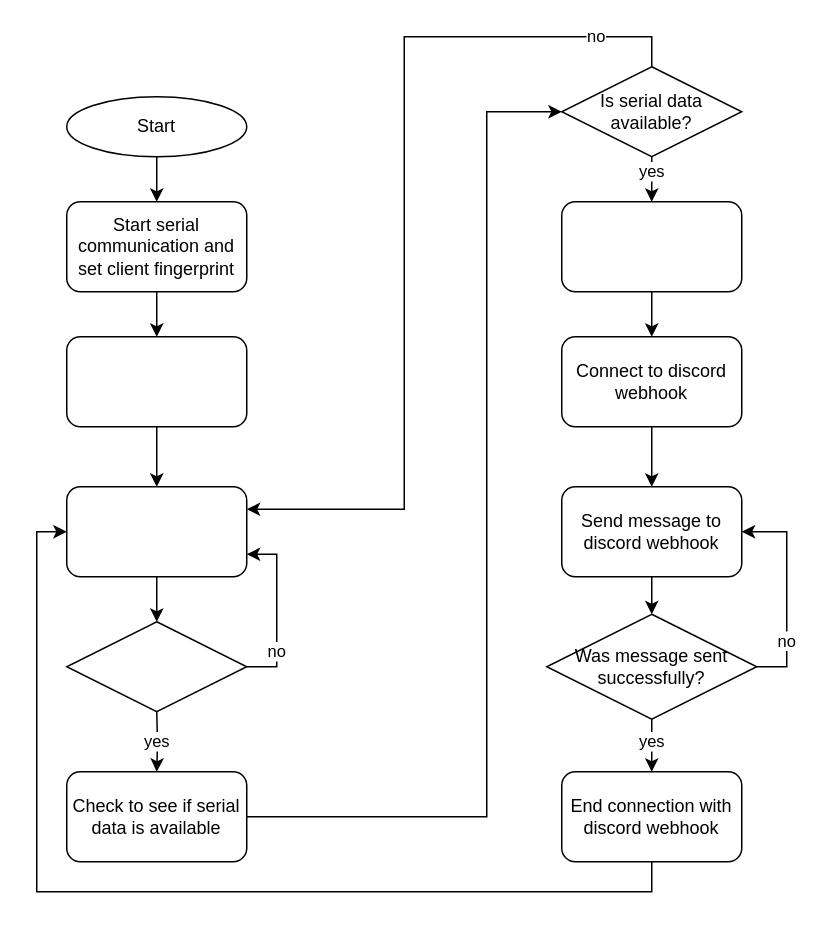
This 825x930 diagram has some shape labels left out. Here are the shapes that lost their labels. From the top down, the centre of each, then its label:
pixel 651 246: Read serial data
pixel 156 381: Connect to WiFi
pixel 156 531: Check WiFi connection
pixel 156 666: Connected to wifi?
